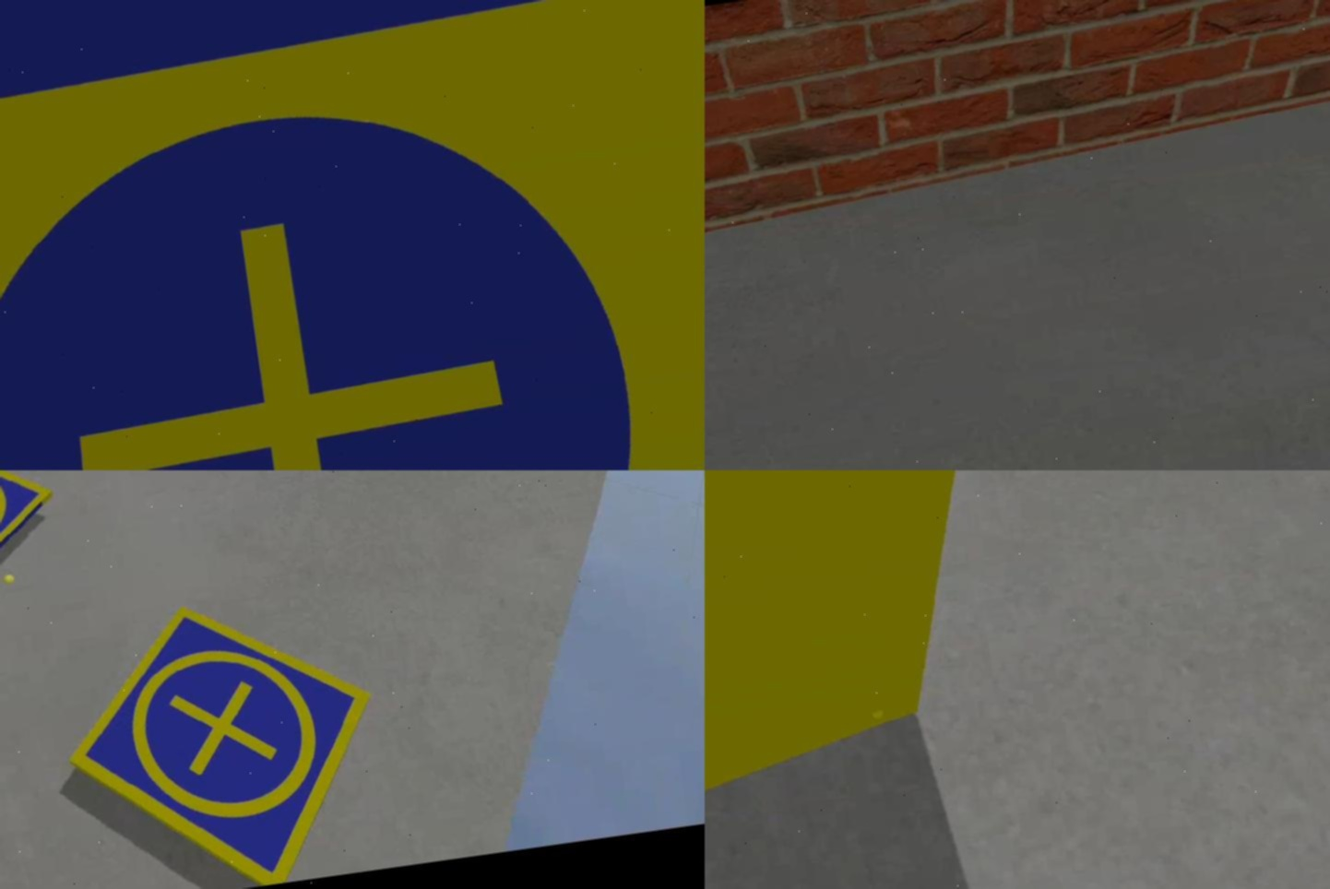large_base: (1, 1, 705, 471)
small_base: (51, 582, 394, 889), (1, 471, 66, 617)
